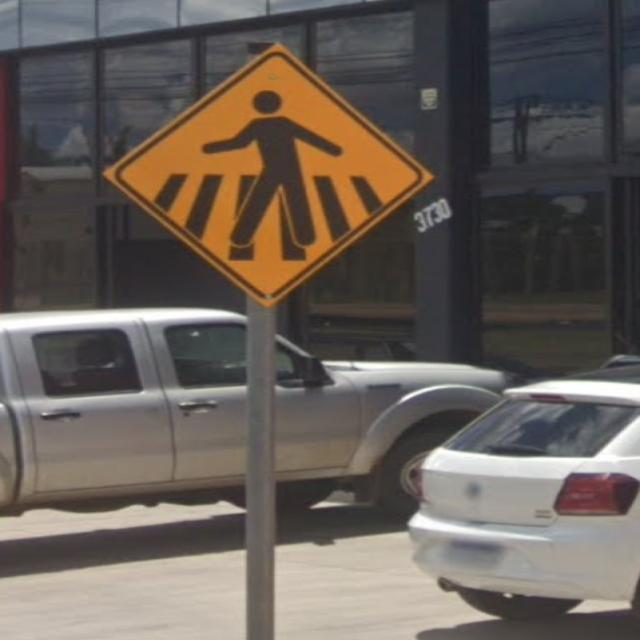pedestrian crossing: (86, 41, 442, 313)
